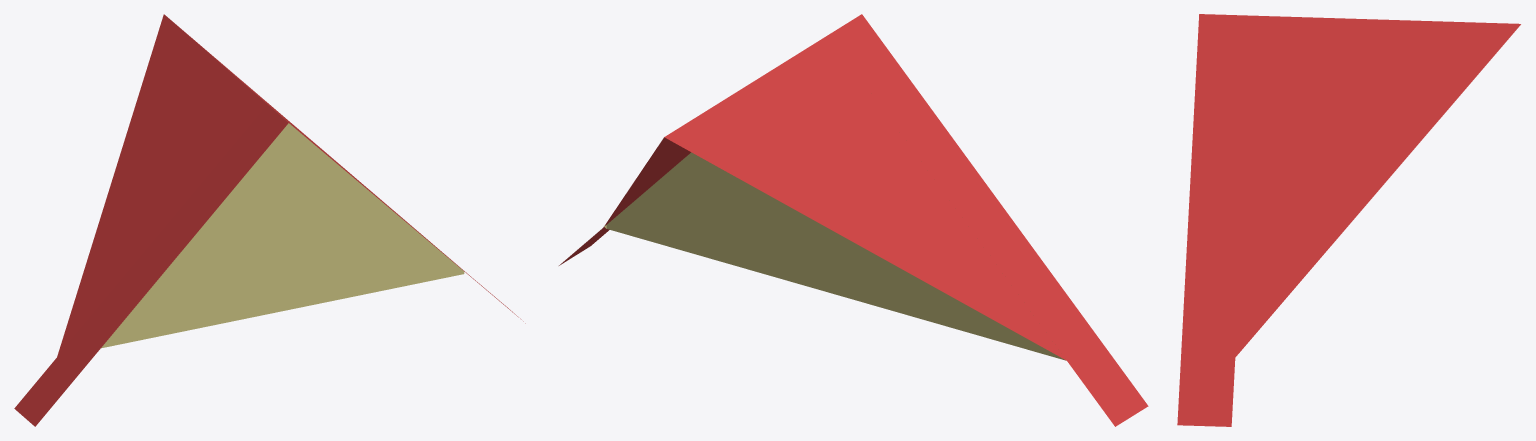
3 renders of one model, left to right at view 1: azimuth 30°, elevation 25°; view 2: azimuth 150°, elevation 25°; view 3: azimuth 270°, elevation 25°, orthographic. The views are drawn at different scales.
Size of the model in its own units: 8.55 by 4.74 by 4.32.
